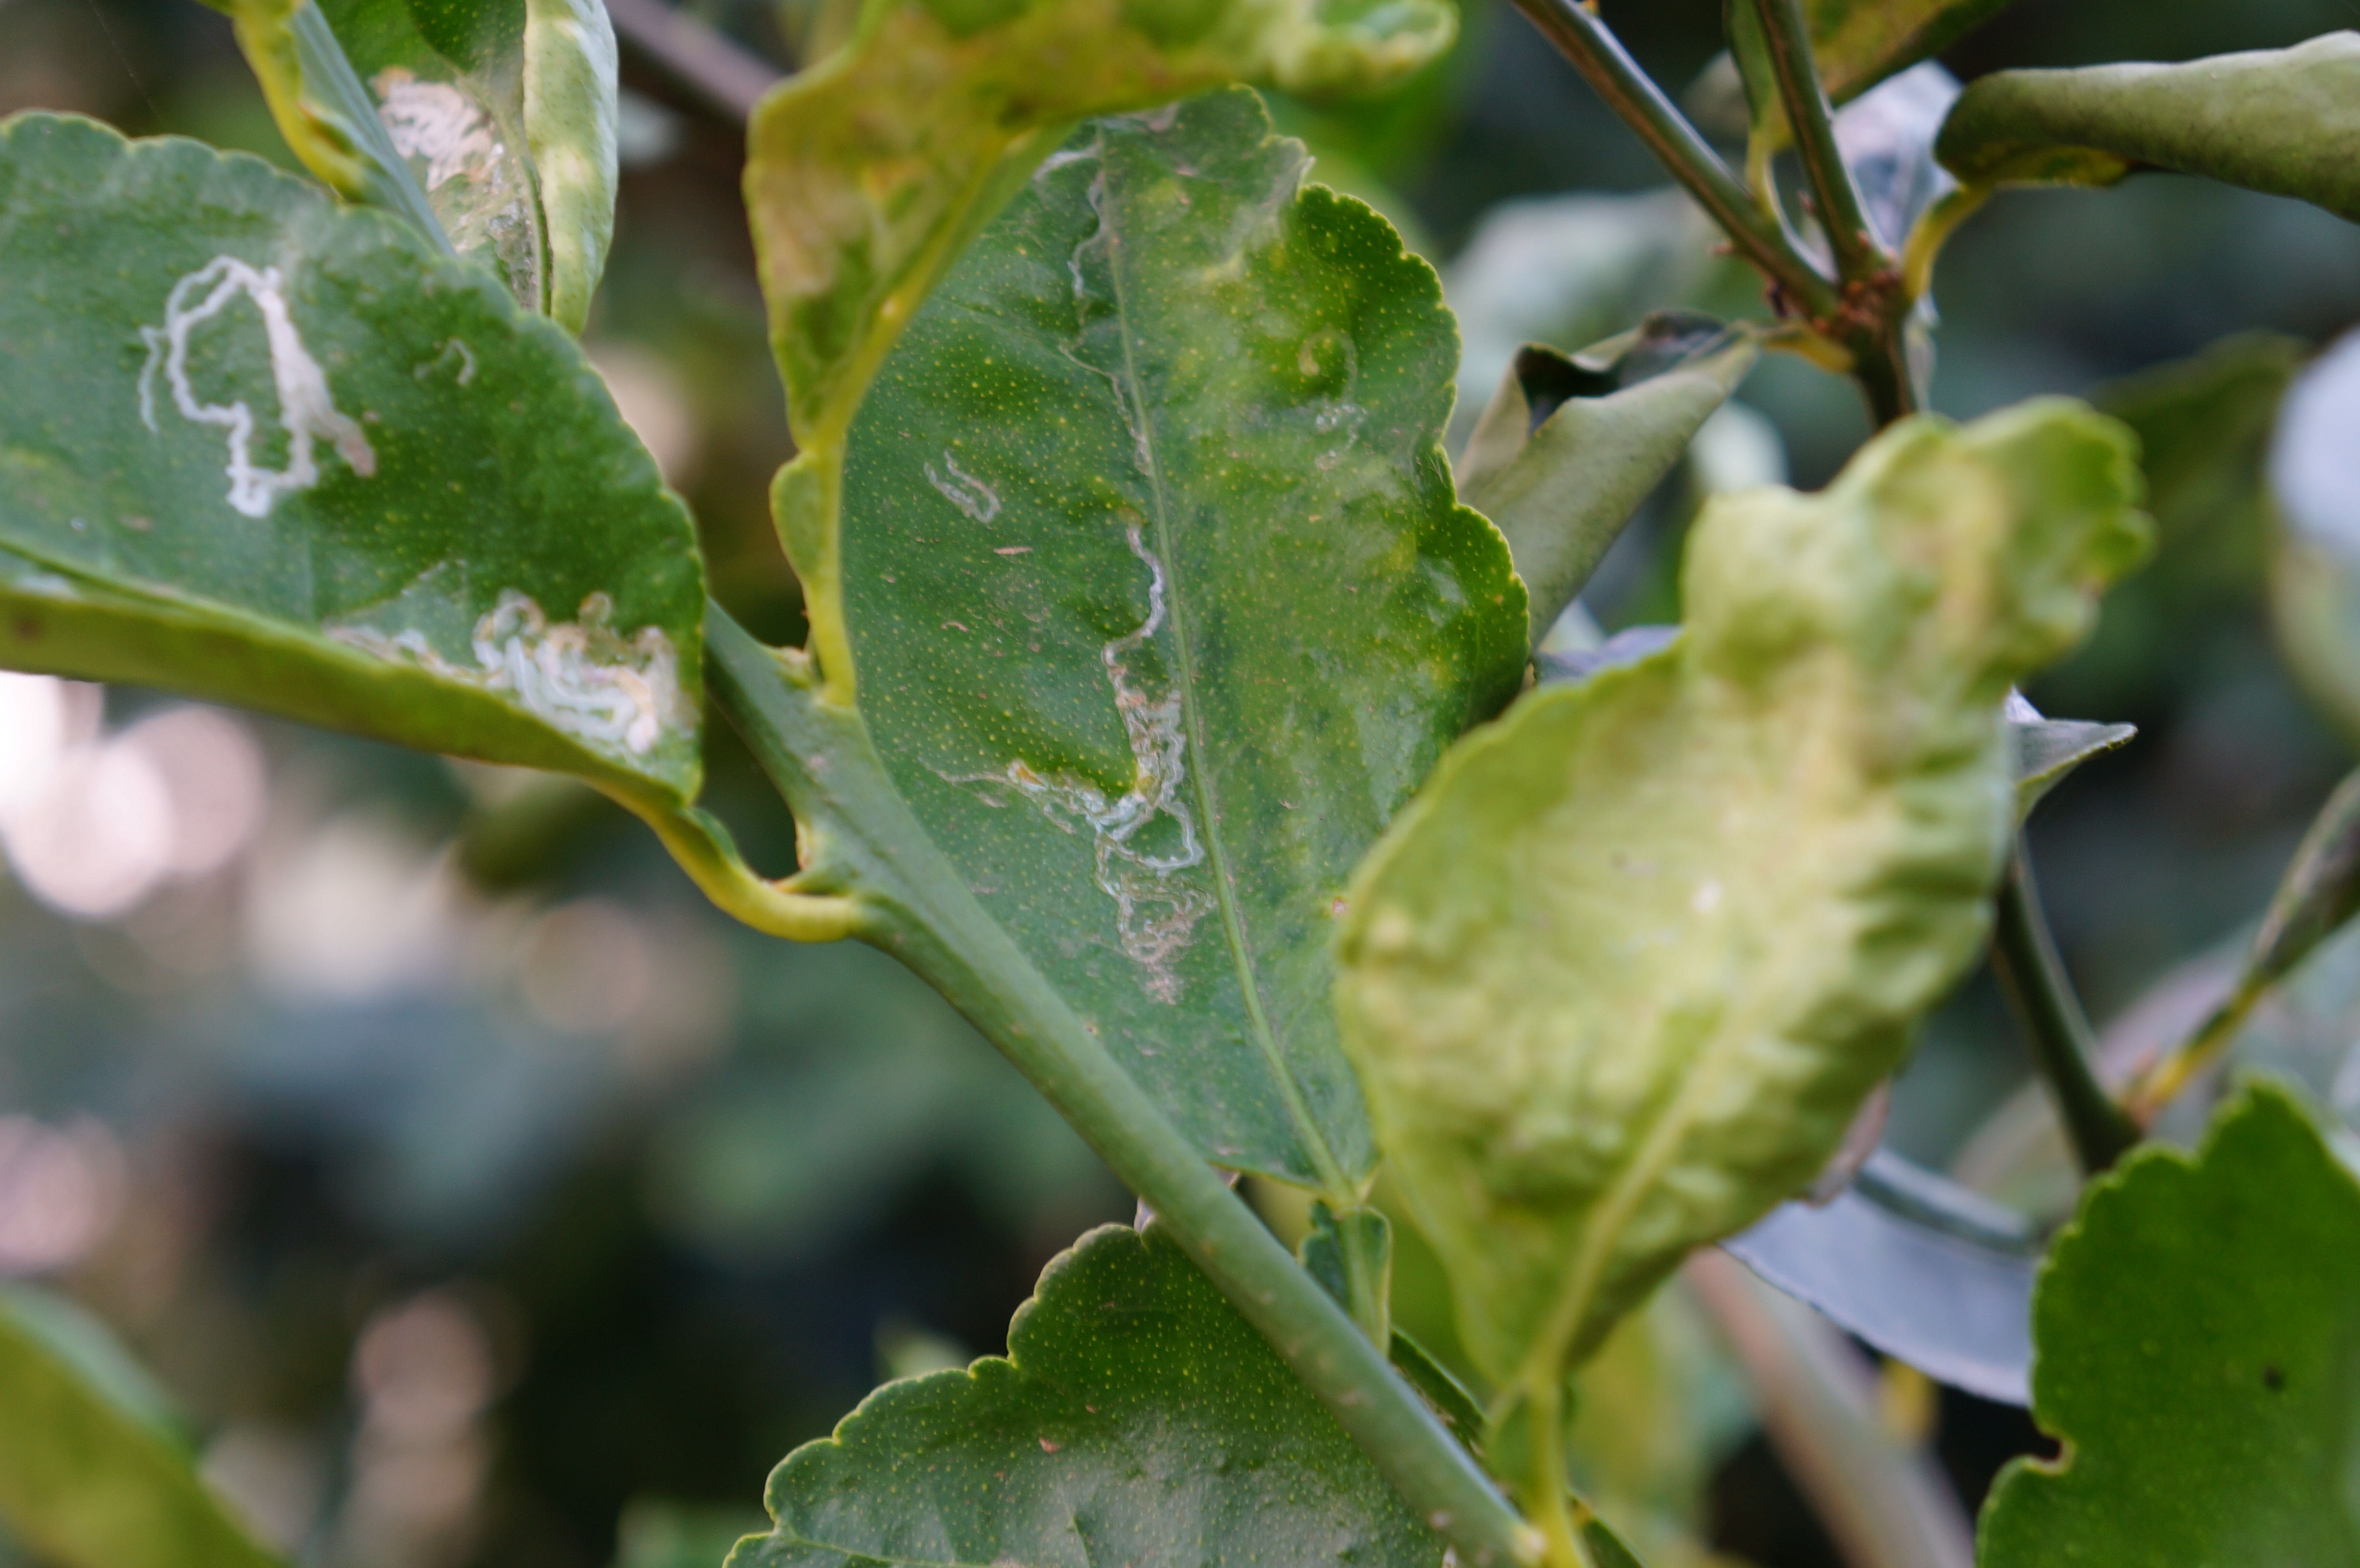damage: (866, 101, 1253, 1017), (290, 535, 695, 801), (108, 248, 406, 530), (345, 56, 514, 259)
